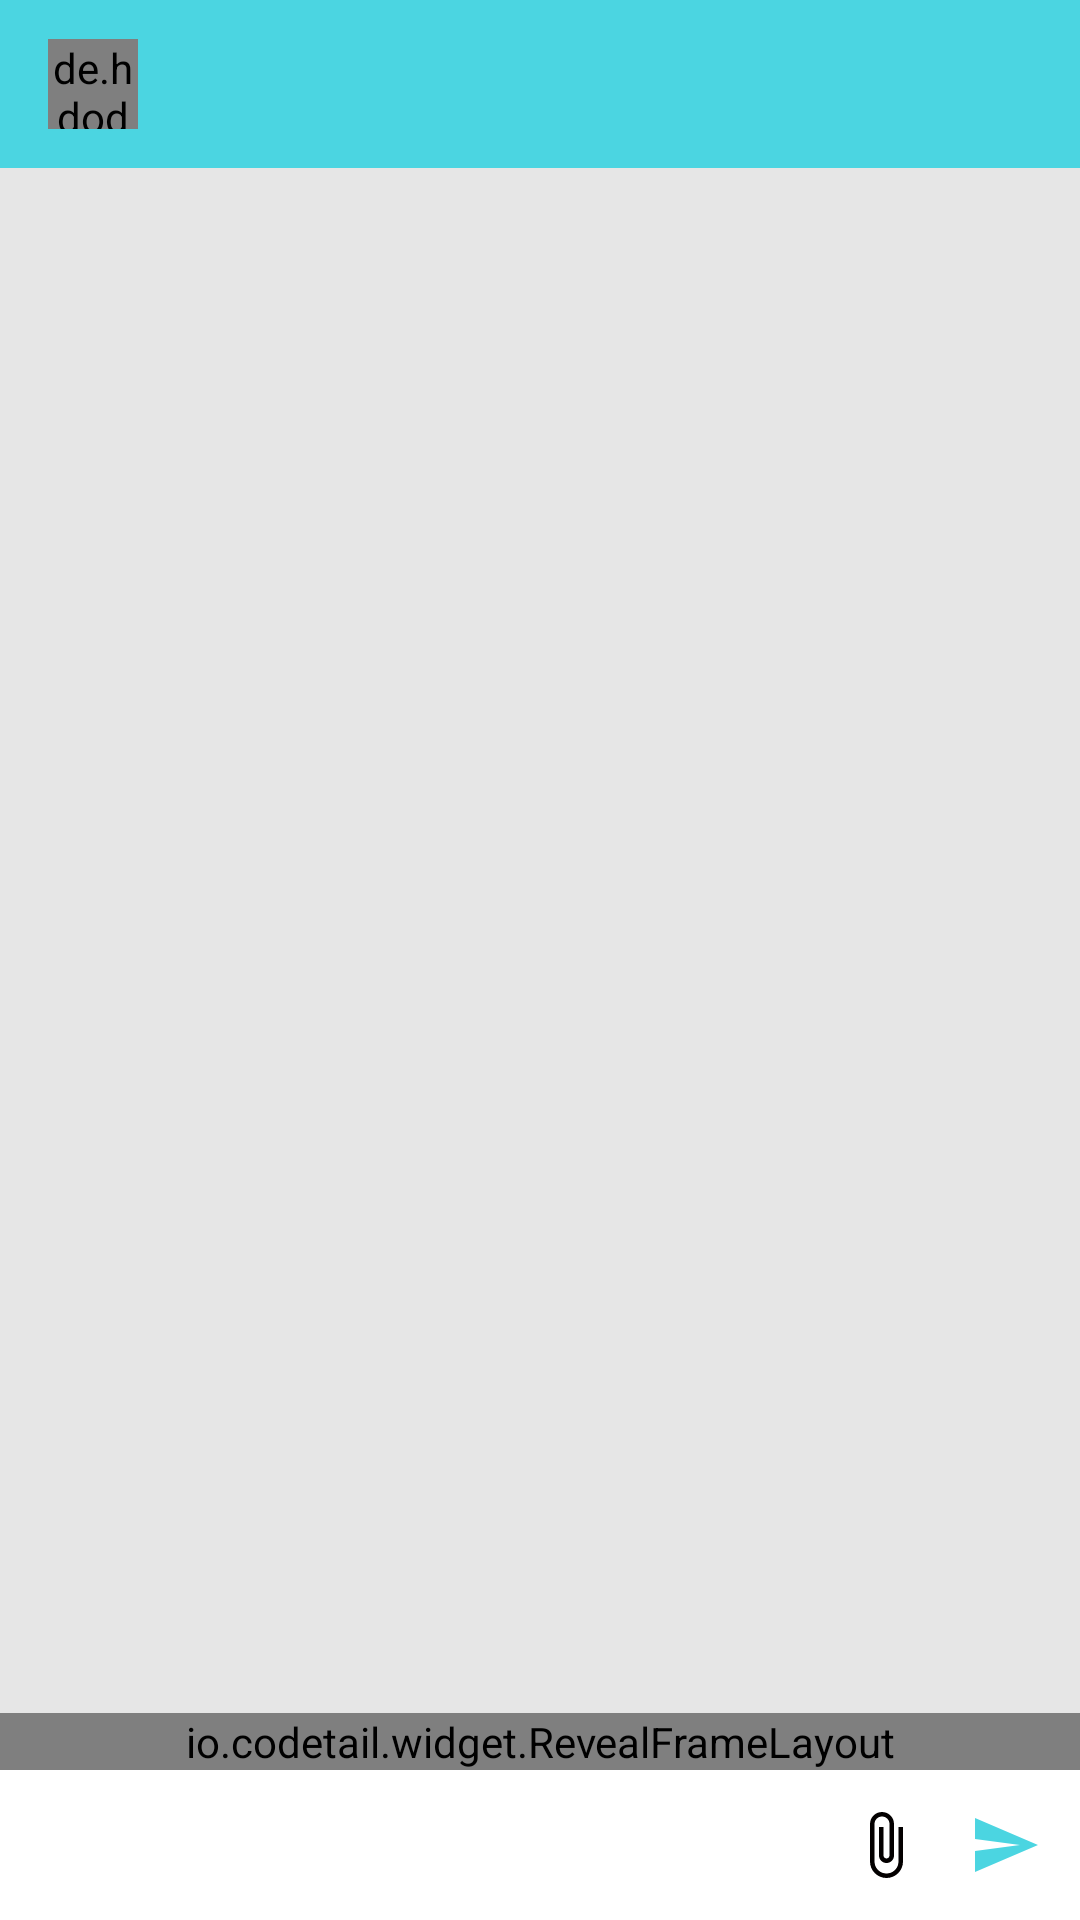

Icons on this 1080 × 1920 Android screen, each with the point to tap as point (x, y):
file: point (886, 1845)
send: point (1006, 1845)
